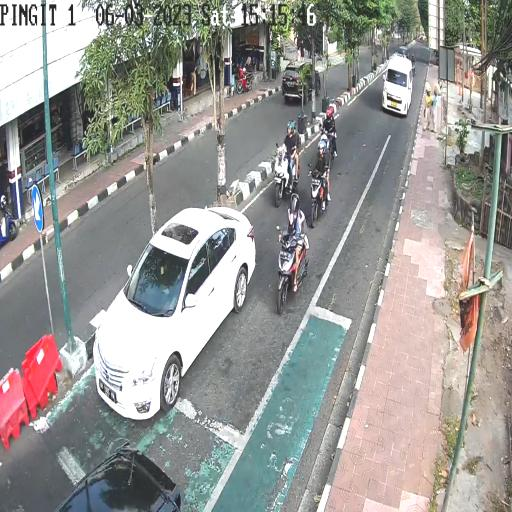mobil: (92, 203, 258, 424), (381, 56, 413, 116), (281, 59, 321, 104)
motor: (273, 226, 308, 312), (273, 141, 300, 206), (306, 164, 330, 225), (318, 121, 339, 162)
